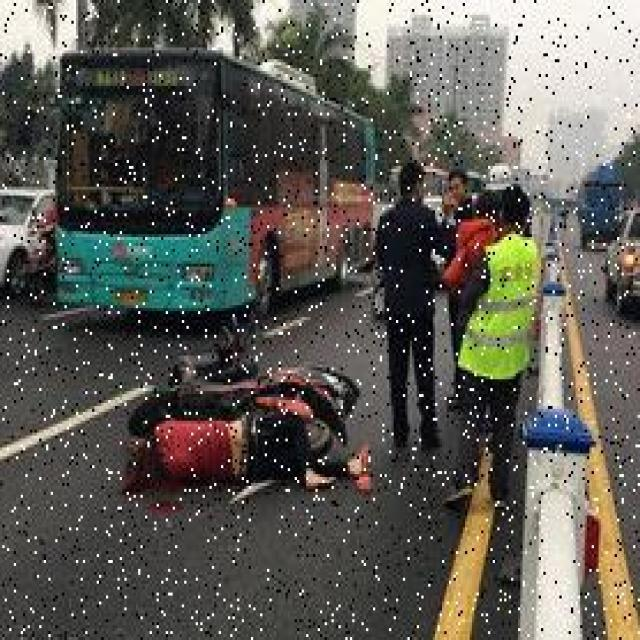fall: (112, 418, 370, 495)
